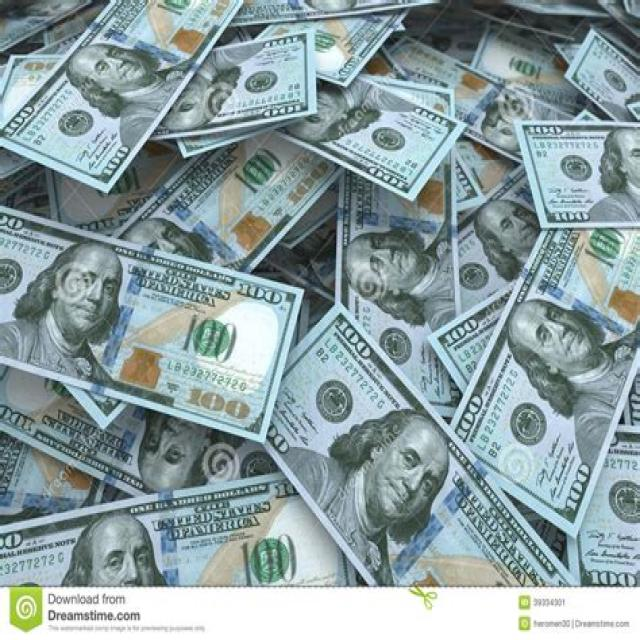Hundred: (260, 303, 576, 585), (0, 202, 307, 442), (451, 227, 640, 536), (1, 0, 245, 194), (0, 471, 359, 588), (0, 358, 297, 498), (0, 36, 320, 139), (339, 145, 455, 415), (114, 137, 337, 277), (368, 40, 569, 157), (278, 72, 469, 193), (517, 122, 640, 228), (565, 423, 640, 588), (568, 28, 640, 120)
